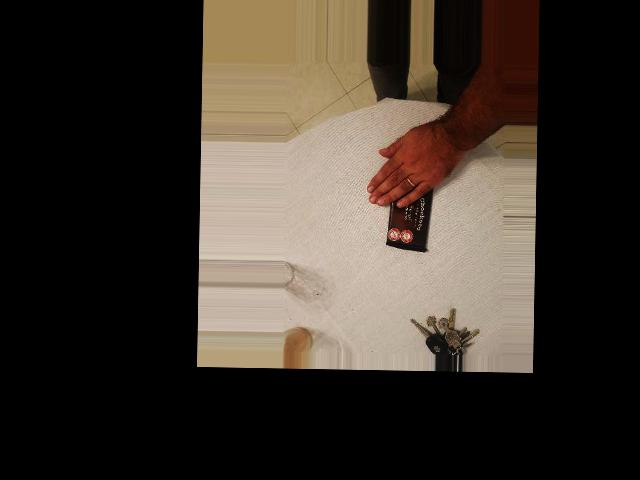chocolate: (380, 143, 439, 256)
